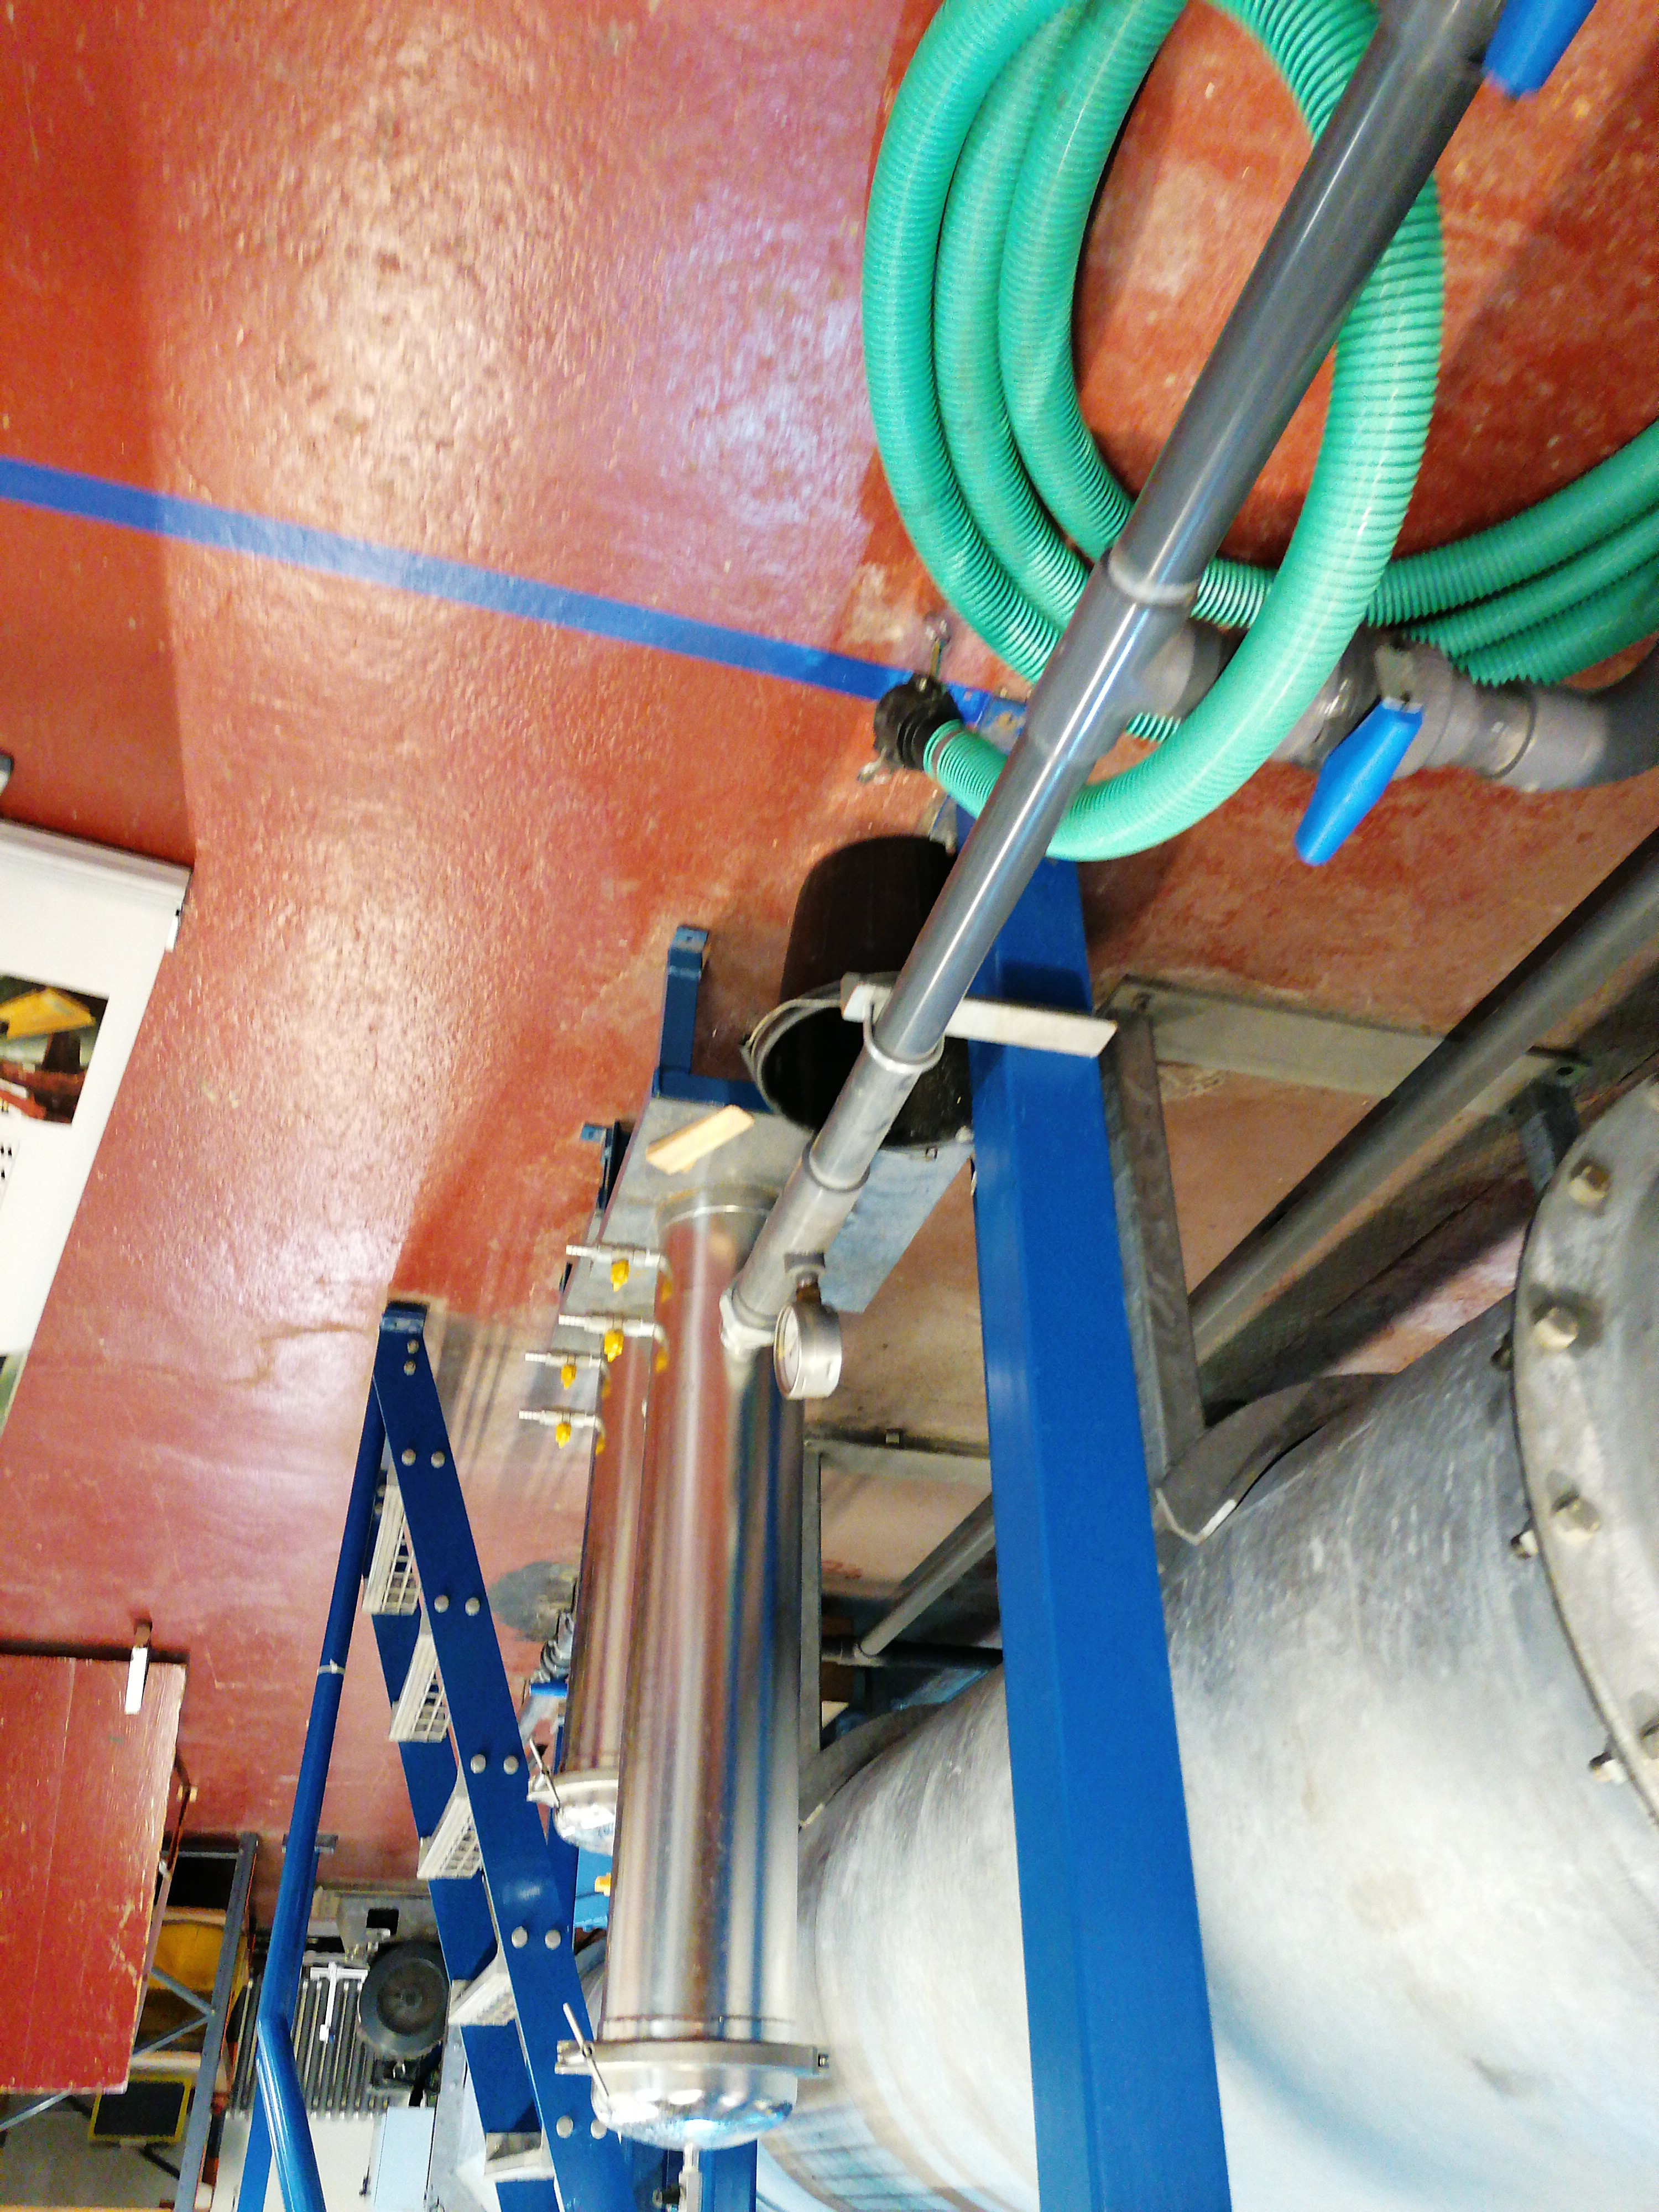bolt: (1492, 1301, 1582, 1362), (1514, 1496, 1603, 1557), (1589, 1724, 1659, 1784)
nut: (1565, 1162, 1614, 1216)
pipe: (725, 0, 1486, 1360), (1192, 853, 1659, 1343), (1026, 556, 1201, 763), (1493, 634, 1659, 784), (861, 1505, 999, 1660), (836, 1637, 890, 1674)
